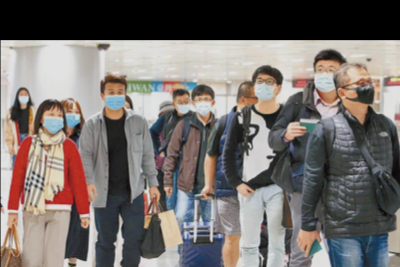with_mask: (314, 63, 339, 93), (253, 75, 278, 101), (354, 76, 375, 104), (41, 109, 64, 133), (104, 88, 127, 110), (62, 105, 80, 128), (195, 94, 212, 117), (175, 97, 191, 115), (16, 91, 30, 104)
